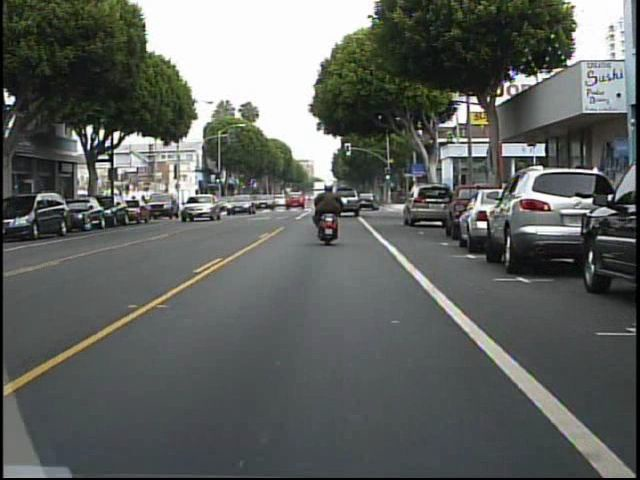person: (311, 178, 350, 246)
